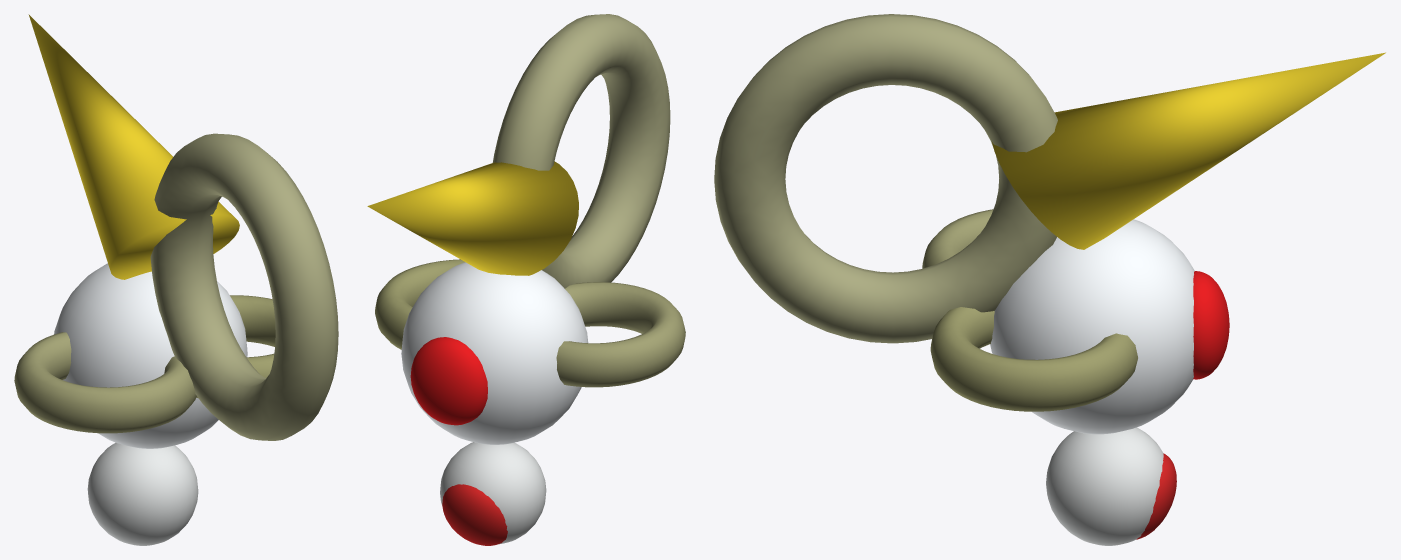
The picture shows the model from 3 angles, left to right: view 1: azimuth 30°, elevation 25°; view 2: azimuth 150°, elevation 25°; view 3: azimuth 270°, elevation 25°; orthographic projection. The views are drawn at different scales.
Parts seen in each view (by area): view 1: Torus.001, Cone, Sphere, Torus.003, Sphere.002, Torus.002; view 2: Torus.001, Sphere, Cone, Torus.003, Sphere.002, Sphere.001, Torus.002, Sphere.003; view 3: Torus.001, Cone, Sphere, Torus.002, Sphere.002, Sphere.001, Torus.003, Sphere.003.
Boxes of the visible parts, x1=… form: Torus.001: x1=150, y1=133, x2=338, y2=440; Cone: x1=28, y1=14, x2=239, y2=279; Sphere: x1=54, y1=263, x2=247, y2=448; Torus.003: x1=14, y1=332, x2=196, y2=433; Sphere.002: x1=87, y1=442, x2=198, y2=545; Torus.002: x1=196, y1=295, x2=275, y2=398; Torus.001: x1=492, y1=14, x2=670, y2=288; Sphere: x1=401, y1=262, x2=588, y2=444; Cone: x1=367, y1=161, x2=578, y2=275; Torus.003: x1=556, y1=282, x2=685, y2=387; Sphere.002: x1=440, y1=442, x2=546, y2=544; Sphere.001: x1=410, y1=337, x2=487, y2=425; Torus.002: x1=375, y1=259, x2=464, y2=349; Sphere.003: x1=442, y1=484, x2=507, y2=545; Torus.001: x1=714, y1=14, x2=1057, y2=343; Cone: x1=992, y1=52, x2=1385, y2=249; Sphere: x1=990, y1=219, x2=1194, y2=434; Torus.002: x1=930, y1=307, x2=1137, y2=411; Sphere.002: x1=1046, y1=427, x2=1163, y2=545; Sphere.001: x1=1193, y1=271, x2=1229, y2=379; Torus.003: x1=922, y1=209, x2=993, y2=268; Sphere.003: x1=1136, y1=453, x2=1176, y2=539.
Size of the model in its own units: 5.39 by 8.11 by 9.4.
